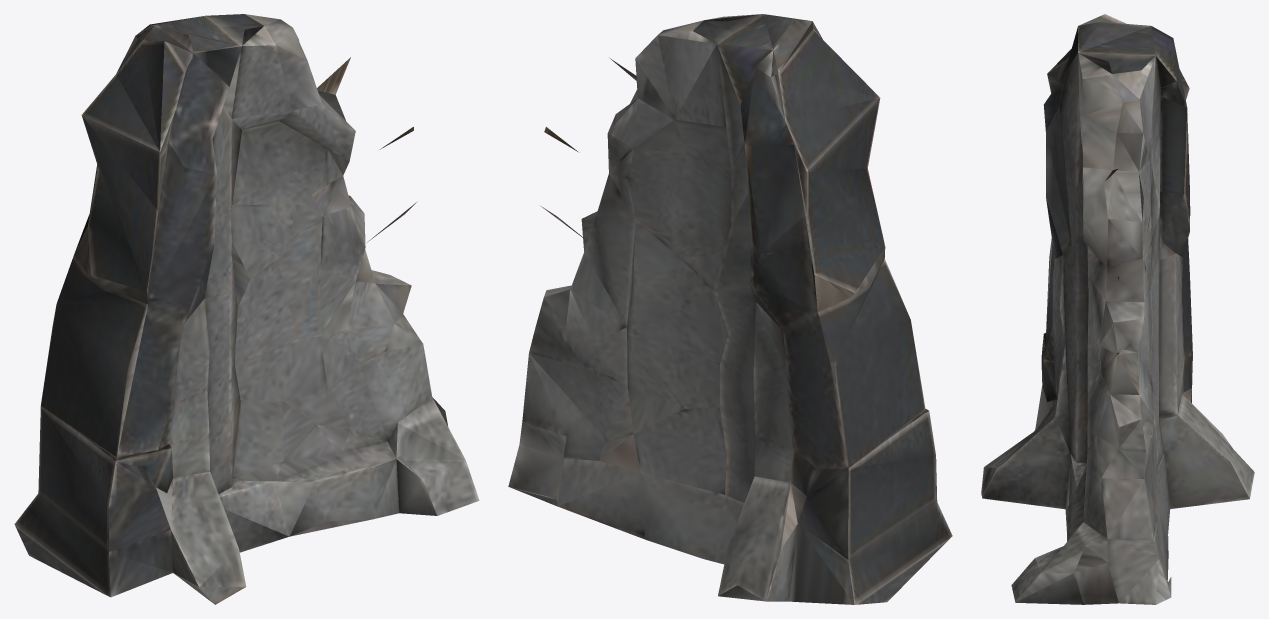
Rendered from shared_rubble_kit__wall_stub_medium_lod2.glb.
3 views of the same model, side by side, from view 1: azimuth 30°, elevation 25°; view 2: azimuth 150°, elevation 25°; view 3: azimuth 270°, elevation 25° (orthographic). The views are drawn at different scales.
Parts seen in each view (by area): view 1: mesh_node; view 2: mesh_node; view 3: mesh_node.
Boxes of the visible parts, <box> form: mesh_node: <box>14,14,479,604</box>; mesh_node: <box>508,14,952,604</box>; mesh_node: <box>981,14,1254,604</box>.
Size of the model in its own units: 3.25 by 4.25 by 2.16.
1 material, 1 textured.
